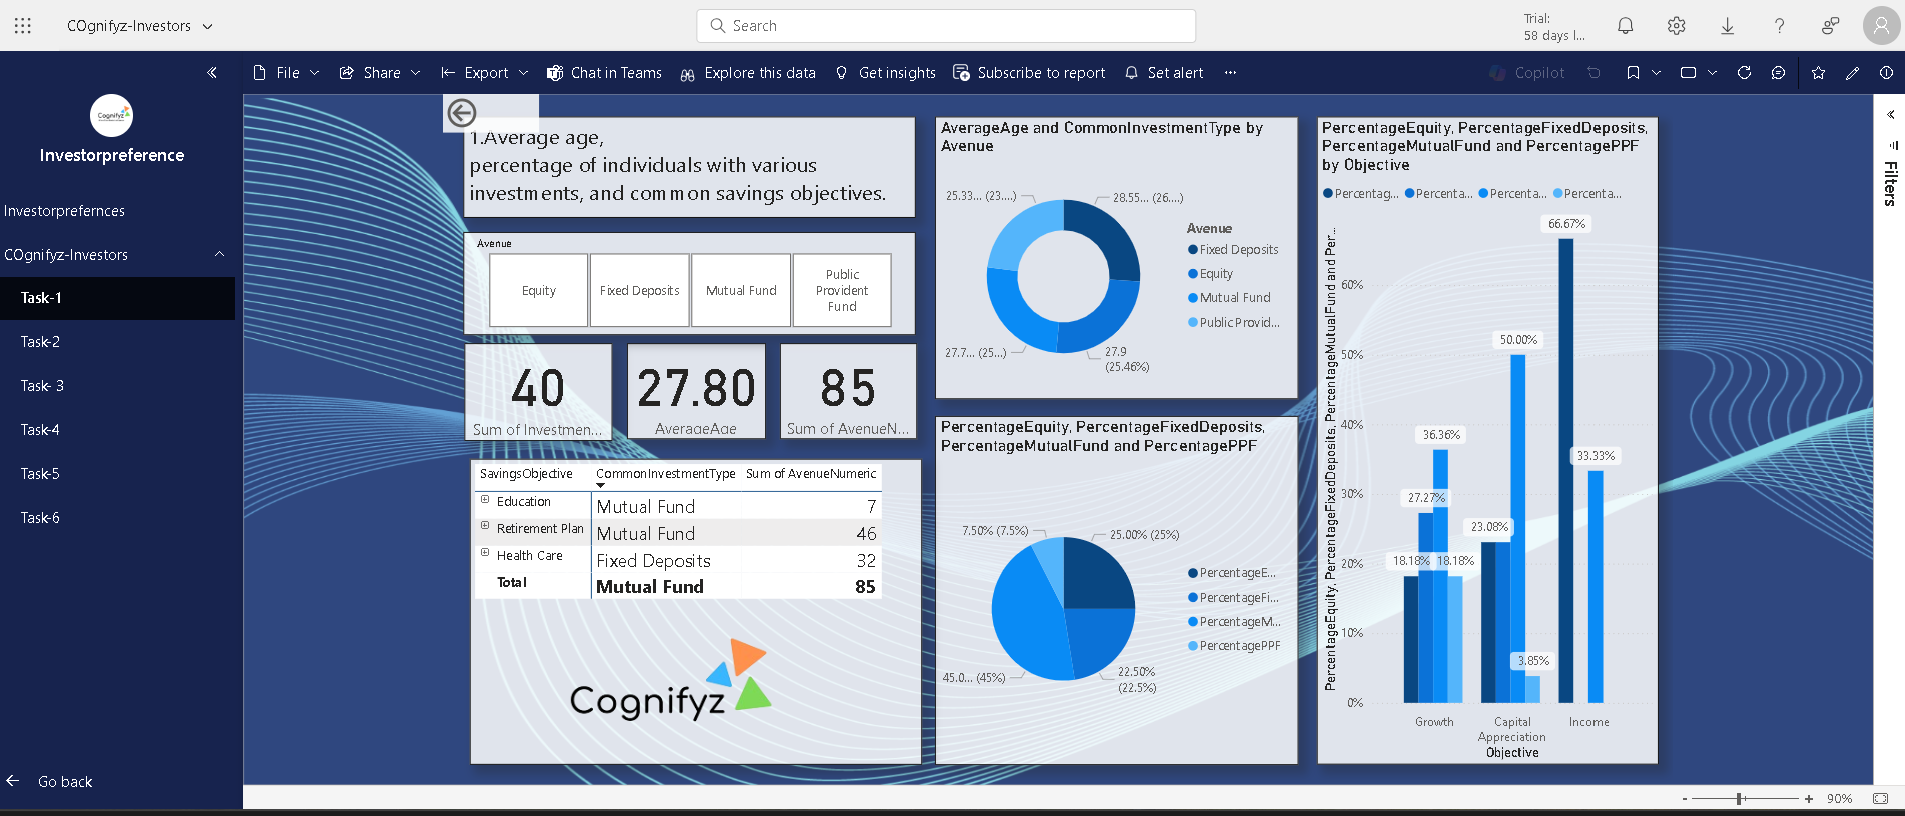

Layout of this report page (visuals, bound fields, positions):
{"tool":"powerbi","page":{"name":"Task-1","canvas":[1280,720],"ordinal":0},"visuals":[{"type":"clusteredColumnChart","fields":{"Category":["Data_set 2.Objective"],"Y":["Data_set 2.PercentageEquity","Data_set 2.PercentageFixedDeposits","Data_set 2.PercentageMutualFund","Data_set 2.PercentagePPF"]},"box":[908.9,85.3,354.3,634.4],"z":0},{"type":"card","fields":{"Values":["Data_set 2.AverageAge"]},"box":[185.5,300.5,144.7,100.2],"z":1000},{"type":"pieChart","fields":{"Y":["Data_set 2.PercentageEquity","Data_set 2.PercentageFixedDeposits","Data_set 2.PercentageMutualFund","Data_set 2.PercentagePPF"]},"box":[512,372.9,378.4,346.9],"z":2000},{"type":"donutChart","fields":{"Category":["Data_set 2.Avenue"],"Y":["Data_set 2.AverageAge"]},"box":[512,85.3,378.4,270.8],"z":3000},{"type":"pivotTable","fields":{"Rows":["Data_set 2.SavingsObjective","Data_set 2.Purpose"],"Values":["Data_set 2.CommonInvestmentType","Sum(Data_set 2.AvenueNumeric)"]},"box":[22.3,400.7,471.2,319.1],"z":4000},{"type":"textbox","box":[22.3,85.3,471.2,105.7],"z":5000},{"type":"actionButton","box":[0,0,100.2,40.8],"z":6000},{"type":"slicer","fields":{"Values":["Data_set 2.Avenue"]},"box":[22.3,191.1,471.2,107.6],"z":7000},{"type":"card","fields":{"Values":["Sum(GenderInvestmentSummary.InvestmentCount)"]},"box":[22.3,298.7,154,102],"z":8000},{"type":"card","fields":{"Values":["Sum(Data_set 2.AvenueNumeric)"]},"box":[350.6,300.5,142.8,100.2],"z":9000},{"type":"image","box":[126.1,521.3,224.5,178.1],"z":10000},{"type":"pageNavigator","box":[126.1,13,1116.7,53.8],"z":10001}]}

Visuals, with their boxes on the page's 1280x720 design canvas (x1, y1, x2, y2). These are canvas units, not pixel positions in the 1905x816 screenshot, which may show the page scaled, cropped or inside an application window:
clusteredColumnChart - Data_set 2.Objective x Data_set 2.PercentageEquity: box=[909, 85, 1263, 720]
card - Data_set 2.AverageAge: box=[186, 300, 330, 401]
pieChart - Data_set 2.PercentageEquity x Data_set 2.PercentageFixedDeposits: box=[512, 373, 890, 720]
donutChart - Data_set 2.Avenue x Data_set 2.AverageAge: box=[512, 85, 890, 356]
pivotTable - Data_set 2.SavingsObjective x Data_set 2.Purpose: box=[22, 401, 494, 720]
textbox: box=[22, 85, 494, 191]
actionButton: box=[0, 0, 100, 41]
slicer - Data_set 2.Avenue: box=[22, 191, 494, 299]
card - Sum(GenderInvestmentSummary.InvestmentCount): box=[22, 299, 176, 401]
card - Sum(Data_set 2.AvenueNumeric): box=[351, 300, 493, 401]
image: box=[126, 521, 351, 699]
pageNavigator: box=[126, 13, 1243, 67]
